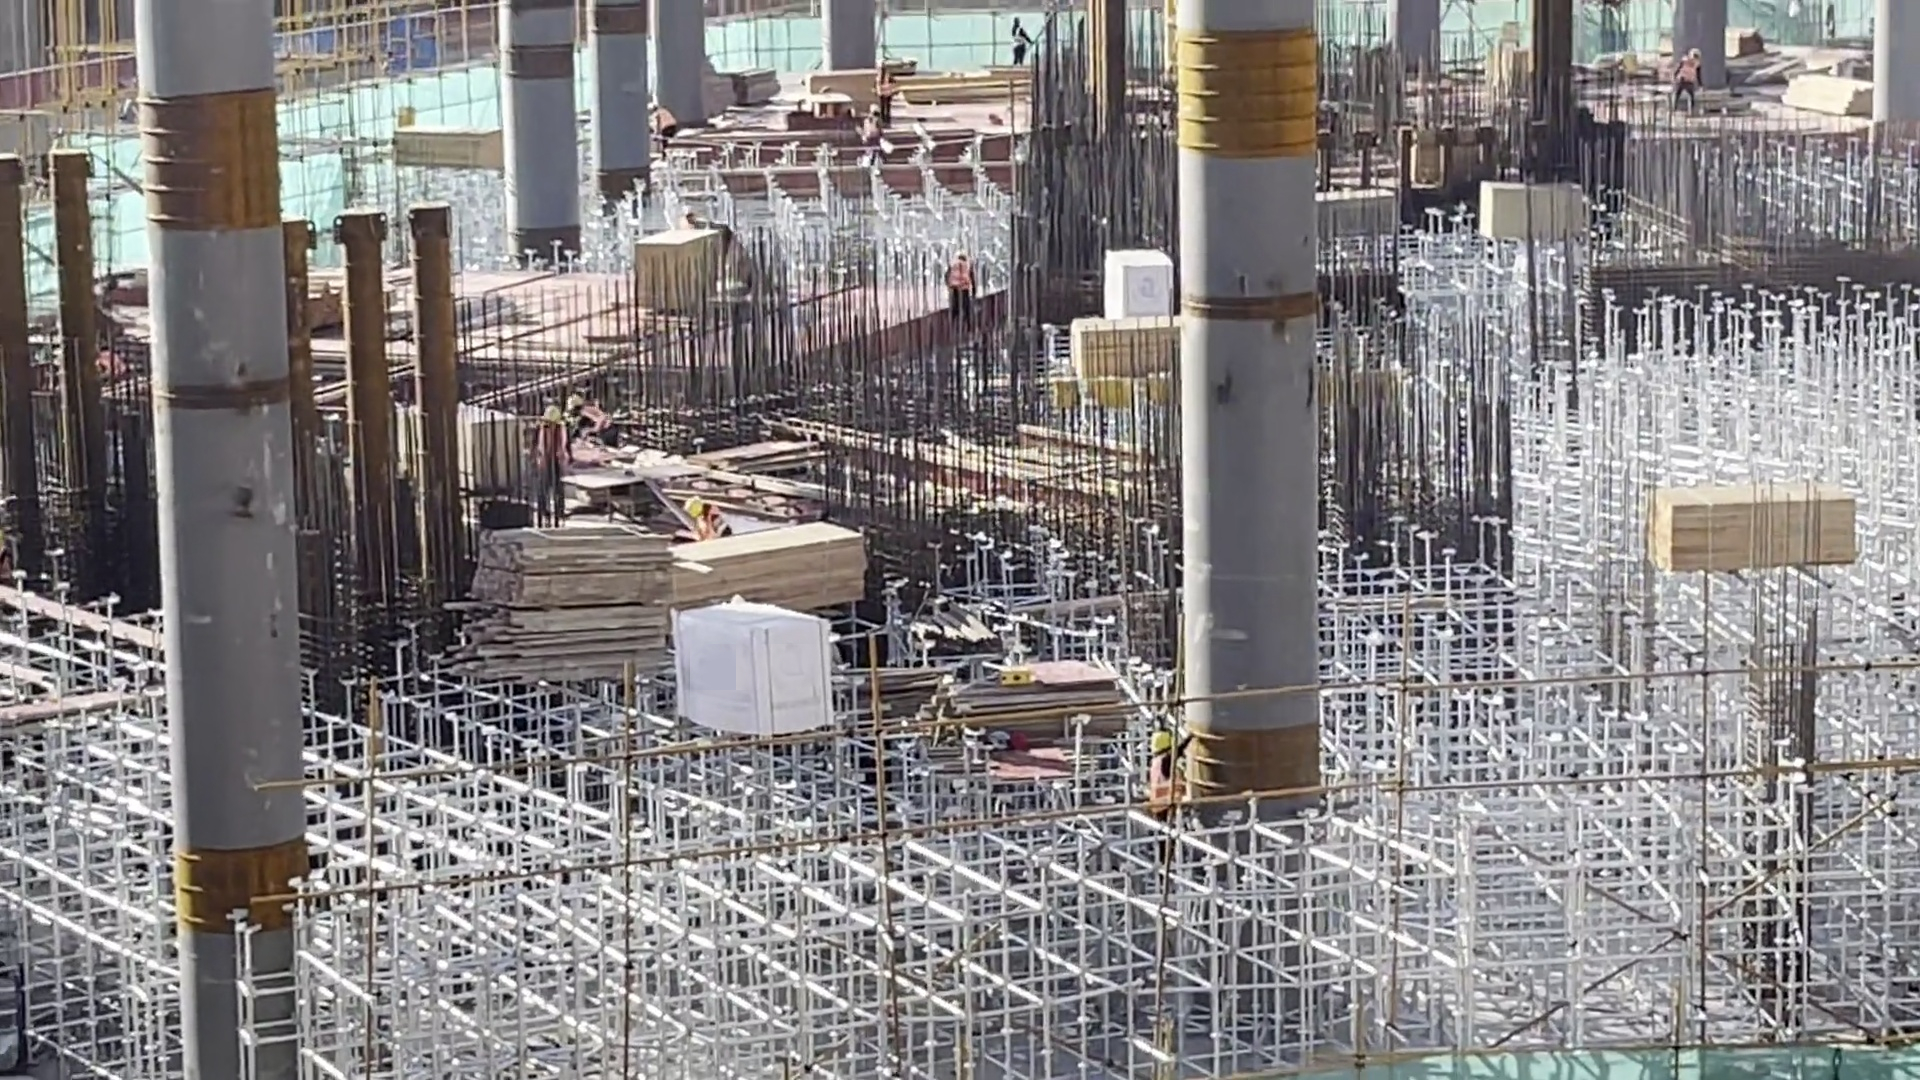board: (921, 658, 1129, 750)
helmet: (1150, 729, 1171, 754), (686, 497, 703, 517), (541, 404, 560, 420), (568, 394, 583, 410)
person: (1145, 723, 1197, 835), (567, 393, 617, 447), (946, 249, 979, 323), (1670, 46, 1704, 115), (684, 497, 735, 541), (872, 56, 899, 128), (648, 99, 677, 152), (1010, 17, 1034, 64)
vest: (1149, 754, 1187, 811), (580, 403, 610, 434), (1675, 57, 1700, 85), (950, 261, 972, 291), (653, 108, 674, 128), (875, 73, 892, 97)
wood: (445, 517, 677, 689), (1647, 487, 1856, 568), (682, 522, 871, 609), (388, 119, 503, 175), (1785, 71, 1872, 116)
